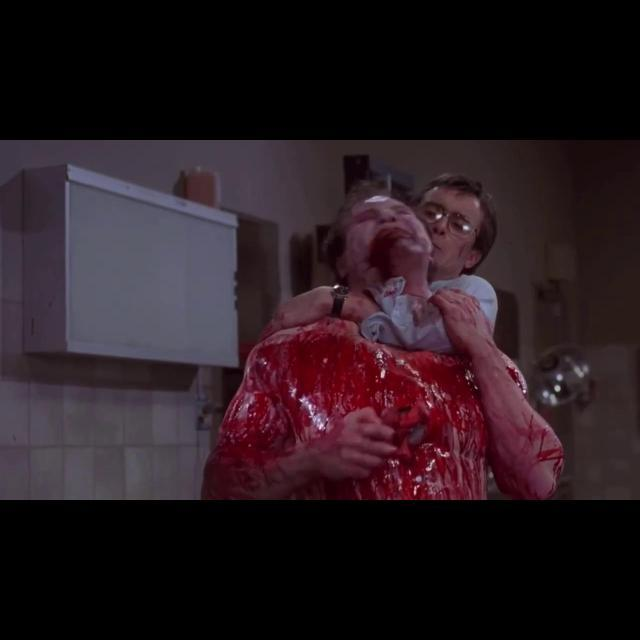blood: (202, 290, 564, 499), (348, 226, 413, 280)
